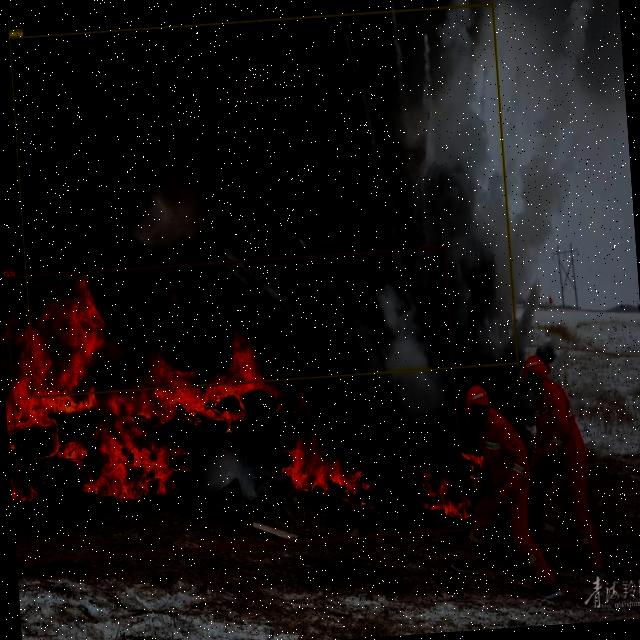fire: (3, 245, 465, 560)
smoke: (8, 2, 518, 397)
